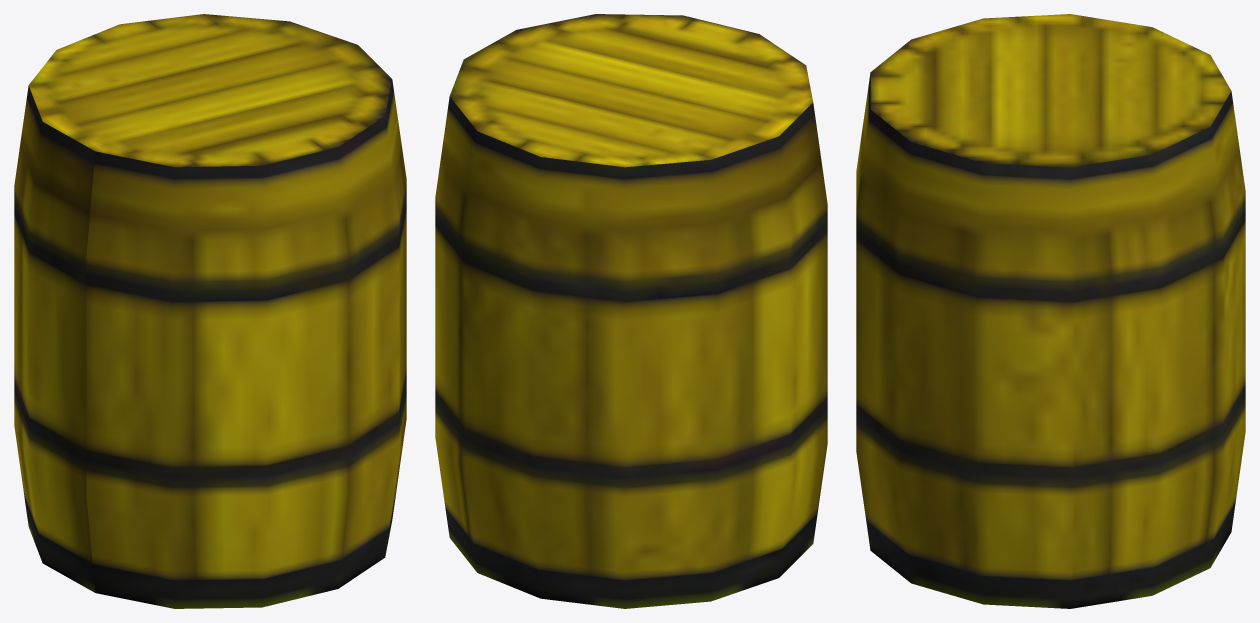
Rendered from wooden_drum_2.fbx.
3 renders of one model, left to right at view 1: azimuth 30°, elevation 25°; view 2: azimuth 150°, elevation 25°; view 3: azimuth 270°, elevation 25°, orthographic.
Visible parts, largest first — view 1: dhool1; view 2: dhool1; view 3: dhool1.
Part boxes in pixels (left/top/right/bottom): dhool1: left=14, top=14, right=406, bottom=608; dhool1: left=435, top=14, right=827, bottom=608; dhool1: left=856, top=14, right=1245, bottom=608.
Bounding box in the file's own units: 68.66 × 85.18 × 68.16.
